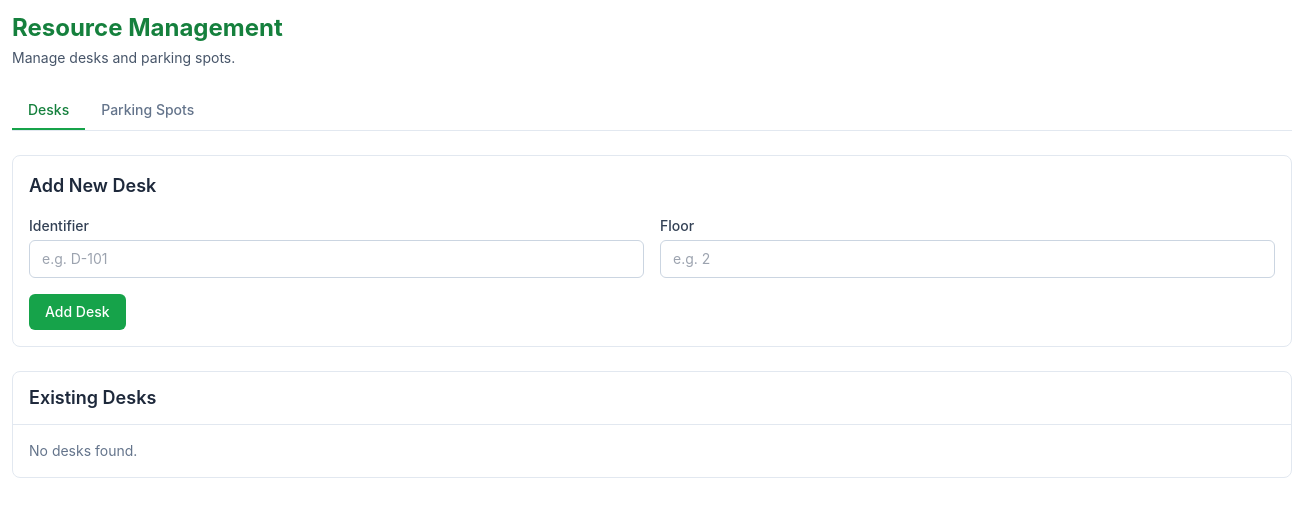
Scenario: ResourceManagementPage › Desk form validation › shows error when floor is not an integer
The image size is (1292, 515).
Step 1. Type "D-101" into the field labelled "Identifier" → (336, 259), box top-left (29, 240), bottom-right (644, 278)
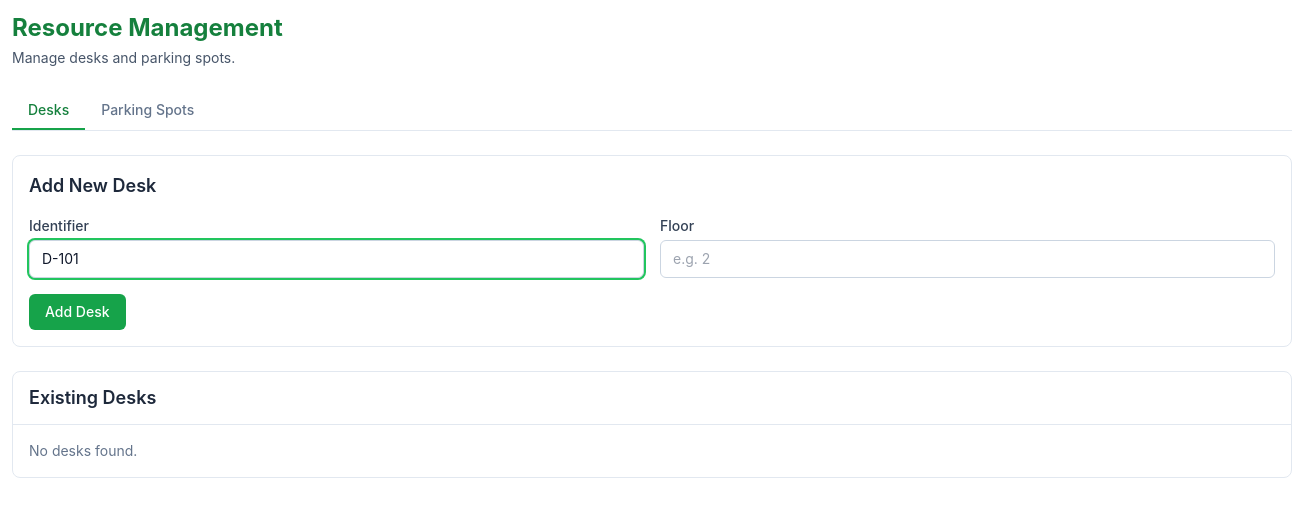
Step 2. Type "2.5" into the field labelled "Floor" → (968, 259), box top-left (660, 240), bottom-right (1275, 278)
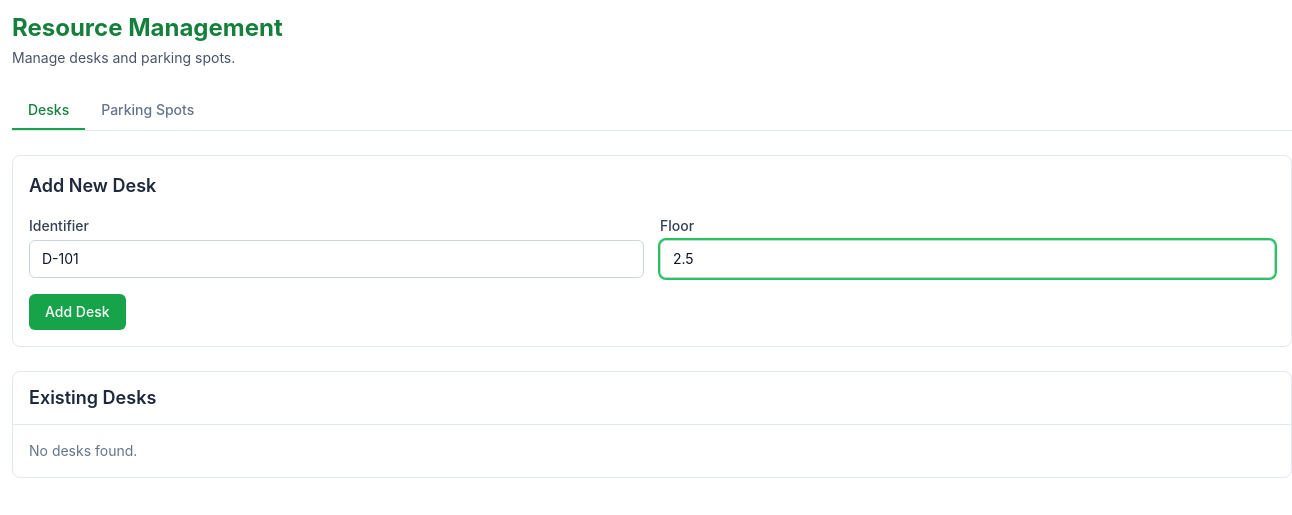
Step 3. Click the button "Add Desk" → (77, 312), box top-left (29, 294), bottom-right (126, 330)
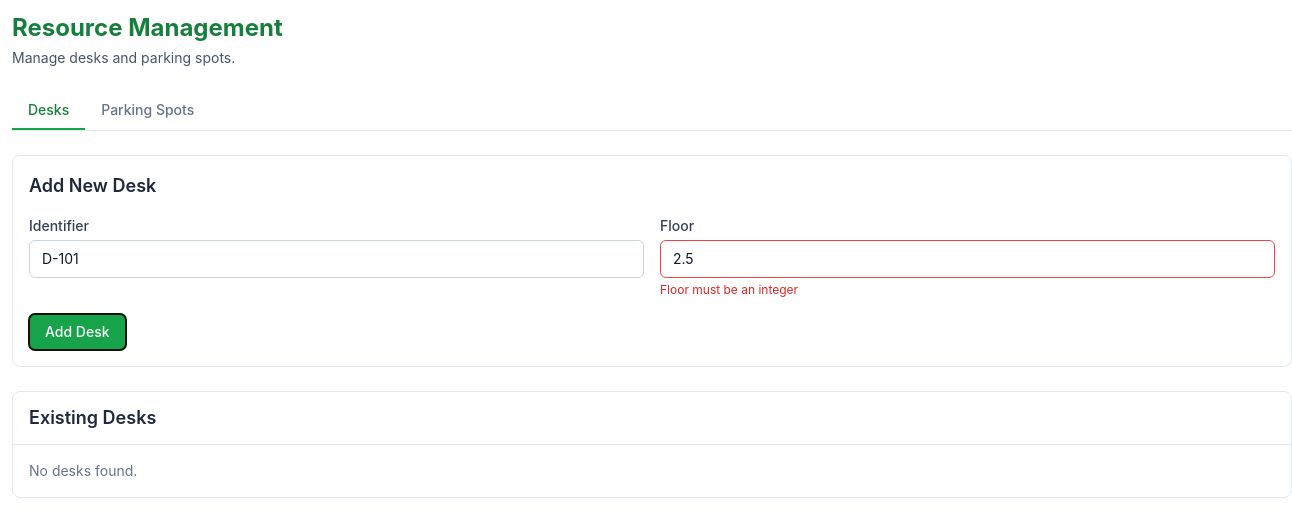
Now the text "Floor must be an integer" is shown, box top-left (660, 282), bottom-right (798, 297)
